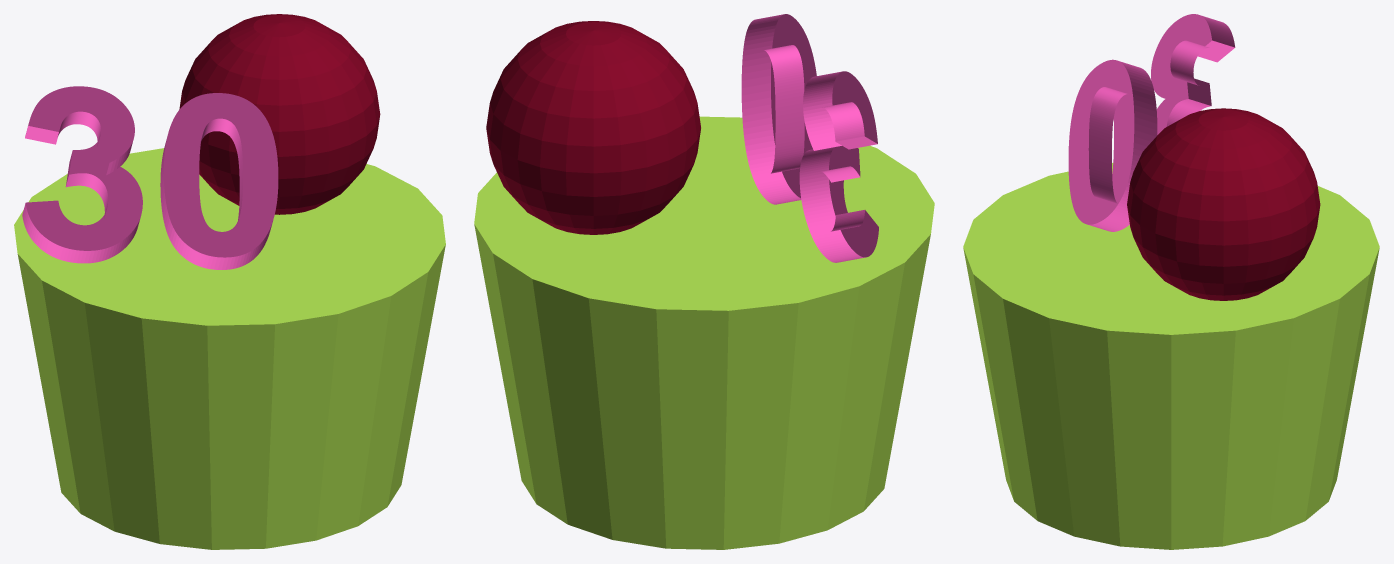
The model's file is cake.glb.
3 renders of one model, left to right at view 1: azimuth 30°, elevation 25°; view 2: azimuth 150°, elevation 25°; view 3: azimuth 270°, elevation 25°, orthographic. The views are drawn at different scales.
Size of the model in its own units: 0.28 by 0.2958 by 0.28.
